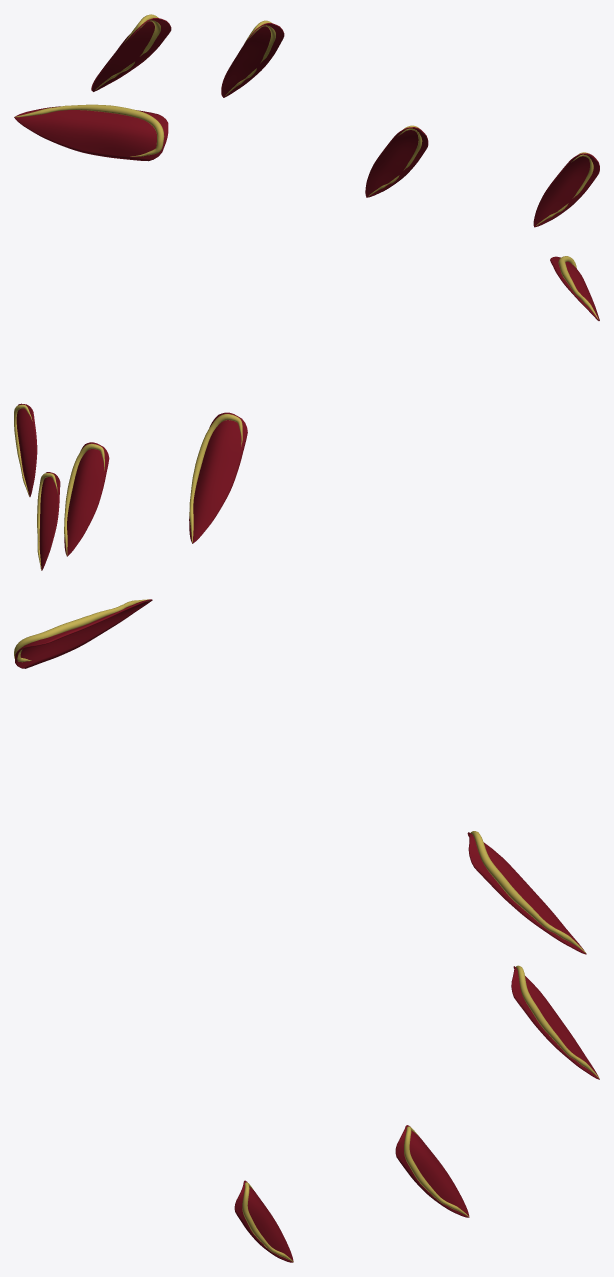
The model's file is basicnail.glb.
3 renders of one model, top to bottom at view 1: azimuth 30°, elevation 25°; view 2: azimuth 150°, elevation 25°; view 3: azimuth 270°, elevation 25°, orthographic. The views are drawn at different scales.
Visible parts, largest first — view 1: StillettoNail.002; view 2: StillettoNail.002; view 3: StillettoNail.002.
Boxes of the visible parts, left/top/right/bottom form: StillettoNail.002: left=14, top=14, right=599, bottom=227; StillettoNail.002: left=14, top=256, right=599, bottom=570; StillettoNail.002: left=14, top=599, right=599, bottom=1262.
Size of the model in its own units: 2.96 by 1.45 by 2.12.
